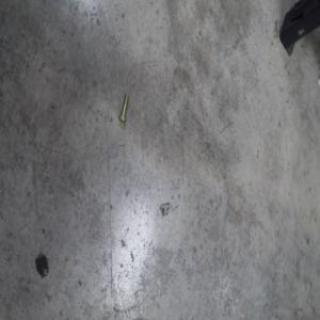Bolttrack_idkeyframe: (118, 92, 129, 123)
